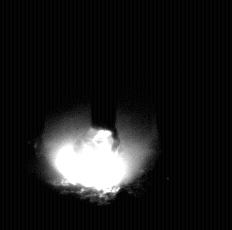arame: (90, 0, 118, 146)
poca: (42, 0, 154, 230)
